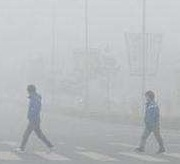person: (13, 83, 57, 154), (134, 88, 168, 155)
